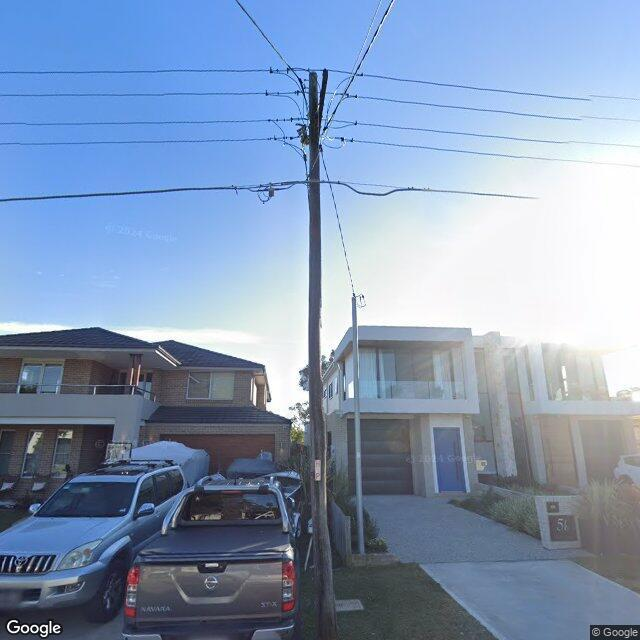crossarm: (318, 66, 329, 130)
steel-pole: (352, 295, 365, 555)
timber-pole: (307, 68, 337, 640)
